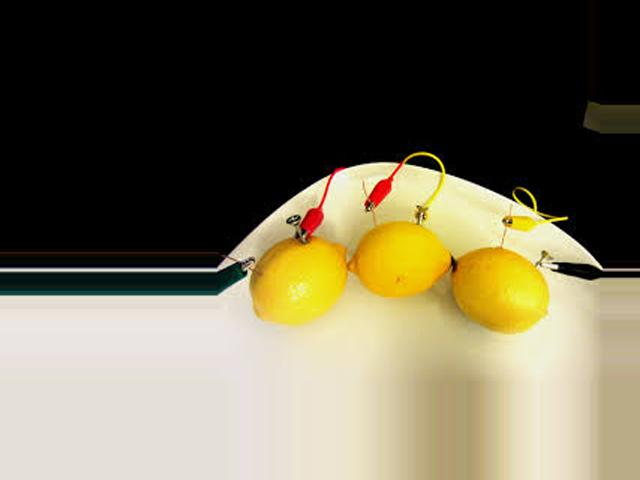lemon: (249, 219, 345, 314)
